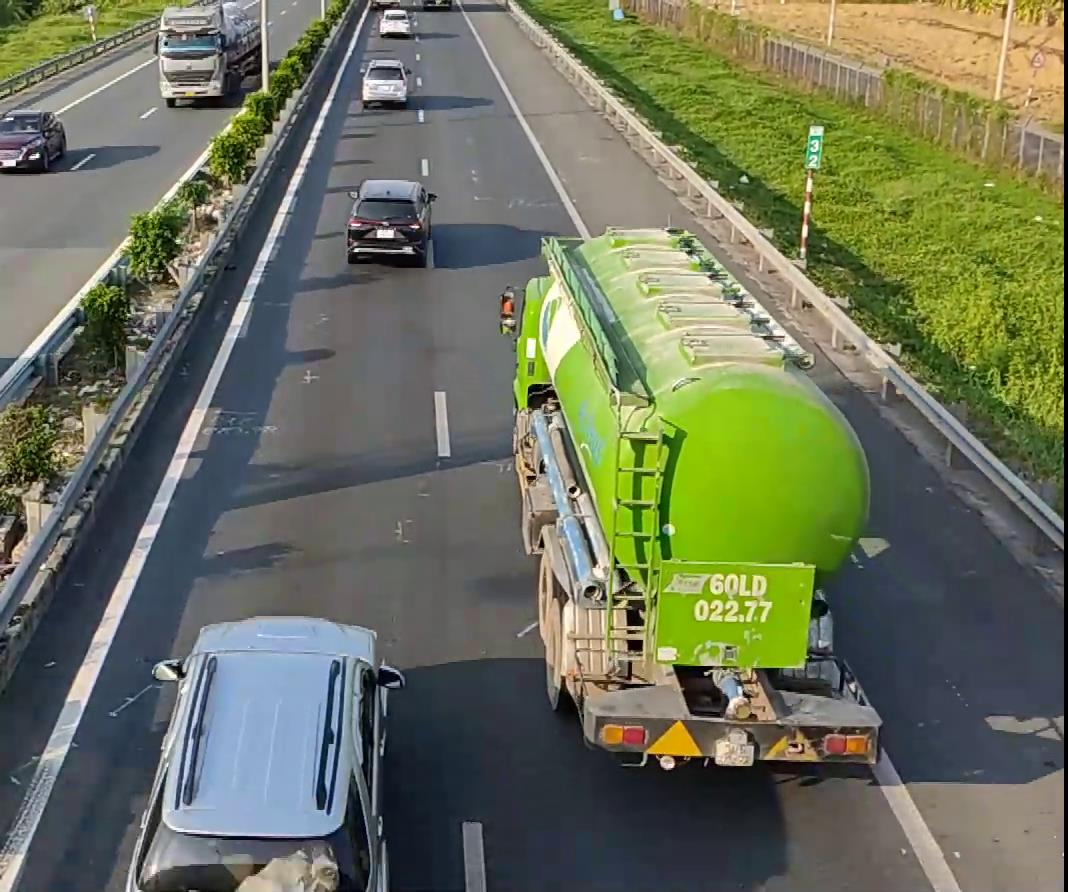car: (122, 611, 400, 887), (344, 178, 434, 264), (0, 107, 66, 170)
container: (507, 227, 881, 774), (154, 0, 265, 105)
